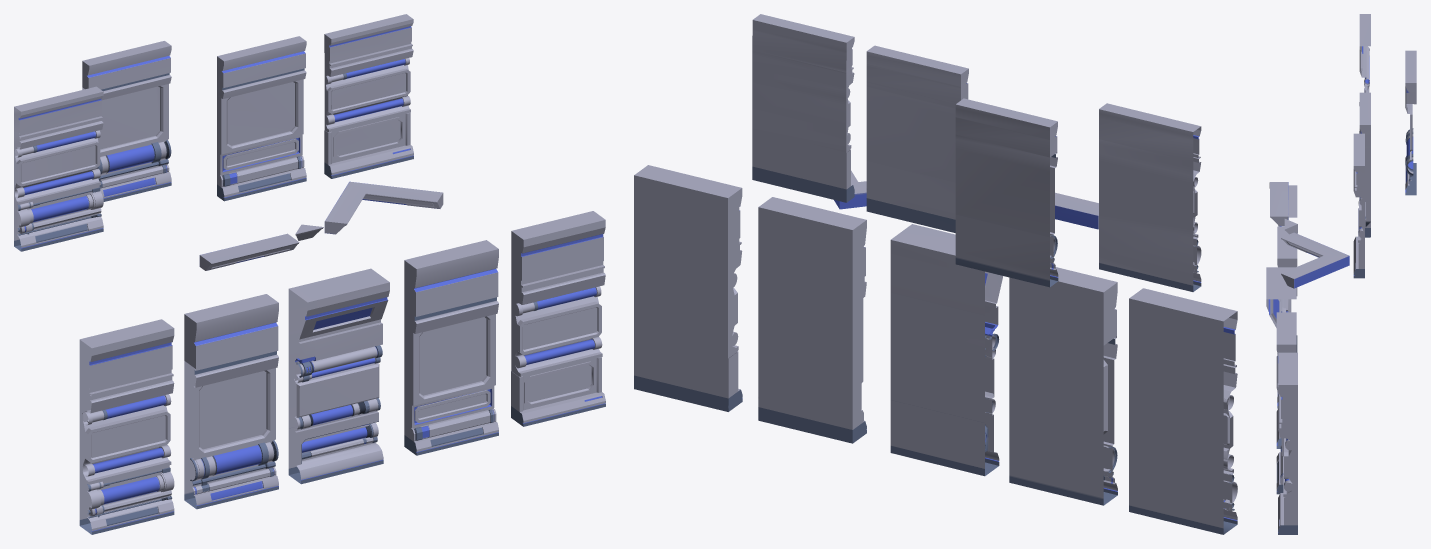
The model's file is Module list modeling_1.fbx.
The picture shows the model from 3 angles, left to right: view 1: azimuth 30°, elevation 25°; view 2: azimuth 150°, elevation 25°; view 3: azimuth 270°, elevation 25°; orthographic projection. The views are drawn at different scales.
Parts seen in each view (by area): view 1: Wall_Mid_003, Wall_Mid_005, Wall_Mid_002, TWall_Mid_004, TWall_Mid_009, TWall_Mid_010, Wall_Mid_010, TWall_Mid_003, Wall_Top_003, TWall_Top_004, Wall_Top_002, TWall_Top_009 (+21 smaller); view 2: Wall_Mid_003, TWall_Mid_004, Wall_Mid_002, Wall_Mid_005, TWall_Mid_009, Wall_Mid_009, Wall_Mid_010, TWall_Mid_003, TWall_Mid_010, TWall_Top_004, TWall_Top_009, Wall_Top_004 (+20 smaller); view 3: Box5820, TWall_Top_009, TWall_Mid_009, Wall_Top_003, TWall_Top_004, Box5825, Wall_Top_002, Wall_Top_008, TWall_Top_003, Wall_Bot_007, TWall_Top_010, Wall_Top_009 (+8 smaller).
Boxes of the visible parts, bbox=[...] form: Wall_Mid_003: bbox=[288, 324, 382, 434]; Wall_Mid_005: bbox=[79, 374, 174, 484]; Wall_Mid_002: bbox=[184, 349, 278, 459]; TWall_Mid_004: bbox=[404, 295, 498, 405]; TWall_Mid_009: bbox=[511, 266, 605, 376]; TWall_Mid_010: bbox=[217, 67, 306, 154]; Wall_Mid_010: bbox=[14, 117, 103, 204]; TWall_Mid_003: bbox=[324, 45, 413, 132]; Wall_Top_003: bbox=[288, 268, 389, 343]; TWall_Top_004: bbox=[404, 240, 498, 315]; Wall_Top_002: bbox=[184, 294, 278, 368]; TWall_Top_009: bbox=[511, 211, 605, 286]; Wall_Mid_003: bbox=[890, 293, 999, 422]; TWall_Mid_004: bbox=[758, 260, 866, 390]; Wall_Mid_002: bbox=[1009, 323, 1117, 452]; Wall_Mid_005: bbox=[1129, 352, 1237, 481]; TWall_Mid_009: bbox=[634, 229, 742, 358]; Wall_Mid_009: bbox=[955, 134, 1057, 237]; Wall_Mid_010: bbox=[1099, 139, 1201, 241]; TWall_Mid_003: bbox=[752, 50, 854, 152]; TWall_Mid_010: bbox=[866, 81, 956, 182]; TWall_Top_004: bbox=[758, 197, 866, 283]; TWall_Top_009: bbox=[634, 165, 742, 251]; Wall_Top_004: bbox=[1129, 288, 1237, 374]; Box5820: bbox=[1281, 232, 1349, 288]; TWall_Top_009: bbox=[1278, 352, 1297, 422]; TWall_Mid_009: bbox=[1278, 396, 1297, 497]; Wall_Top_003: bbox=[1266, 267, 1296, 327]; TWall_Top_004: bbox=[1276, 312, 1296, 381]; Box5825: bbox=[1269, 182, 1288, 226]; Wall_Top_002: bbox=[1277, 226, 1297, 295]; Wall_Top_008: bbox=[1405, 50, 1416, 104]; TWall_Top_003: bbox=[1353, 133, 1364, 186]; Wall_Bot_007: bbox=[1405, 128, 1416, 195]; TWall_Top_010: bbox=[1359, 92, 1370, 146]; Wall_Top_009: bbox=[1359, 14, 1370, 67].
Size of the model in its own units: 2396 by 1681 by 728.
Materials: 1 (1 with a texture image).
